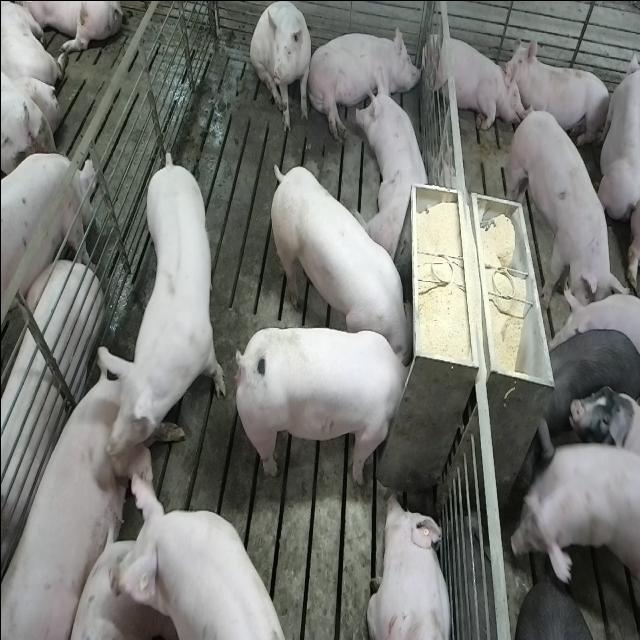Feeding: (264, 160, 412, 360), (239, 324, 418, 484)
Lateral_lying: (3, 363, 167, 640), (306, 22, 422, 140)
Sitting: (249, 1, 312, 134)
Standing: (89, 148, 222, 470), (507, 422, 639, 634), (109, 497, 288, 640), (509, 100, 625, 313), (0, 155, 94, 346), (537, 326, 637, 433), (549, 284, 637, 355), (518, 577, 604, 638)
Sternal_lying: (356, 72, 434, 260), (366, 490, 454, 640), (504, 39, 610, 150), (424, 28, 518, 134)
